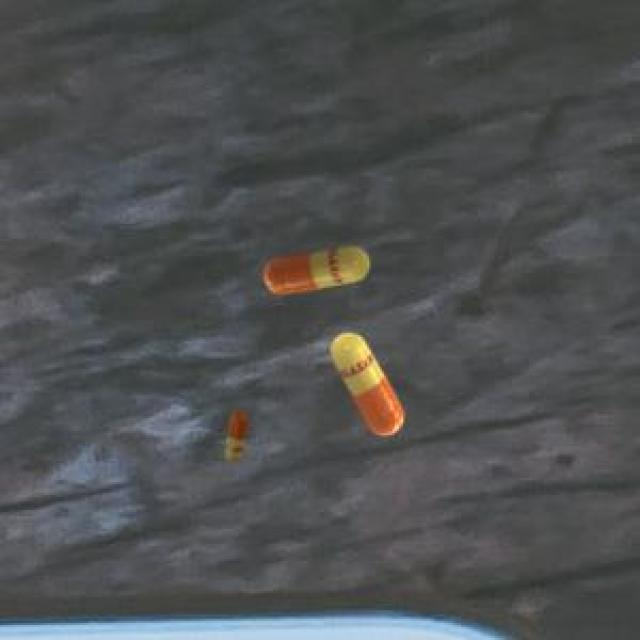Alaxan: (325, 328, 411, 446), (253, 243, 378, 304), (220, 403, 252, 467)
